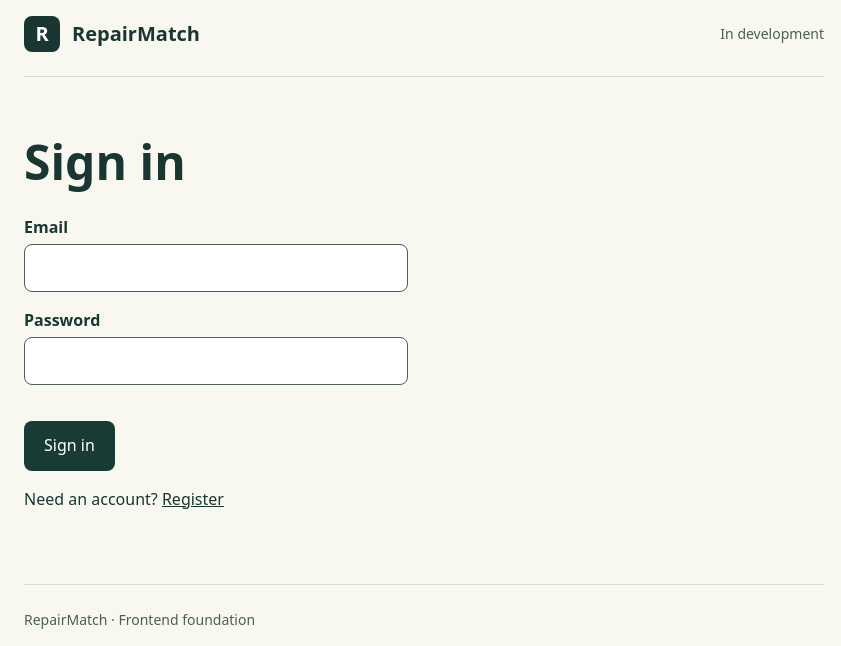
Test case: login form › disables the form while submitting
Type "client@example.test" into the field labelled "Email".
click(216, 268); type("client@example.test")  # box x1=24 y1=244 x2=408 y2=292
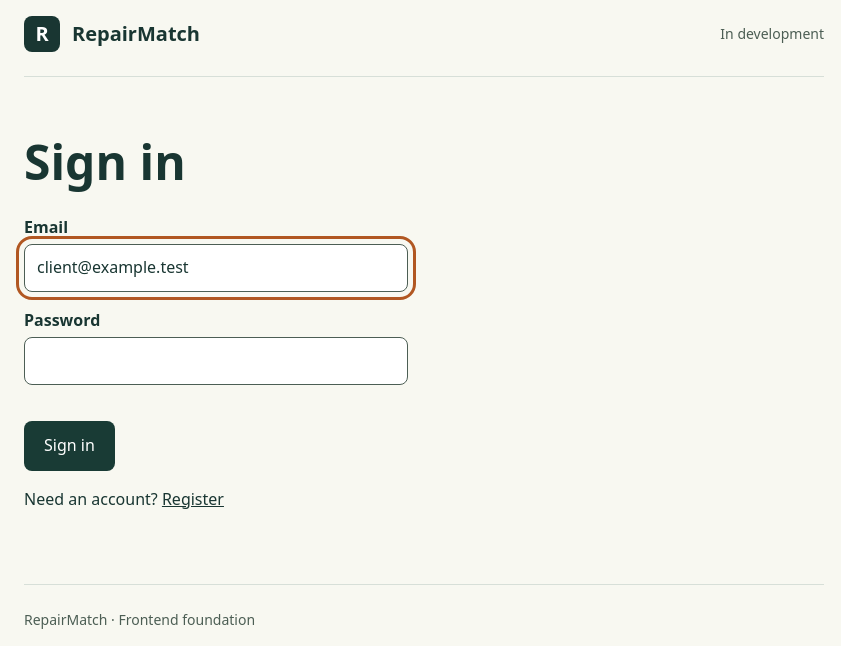
Type "Test-pass-1" into the password field labelled "Password".
click(216, 361); type("Test-pass-1")  # box x1=24 y1=337 x2=408 y2=385
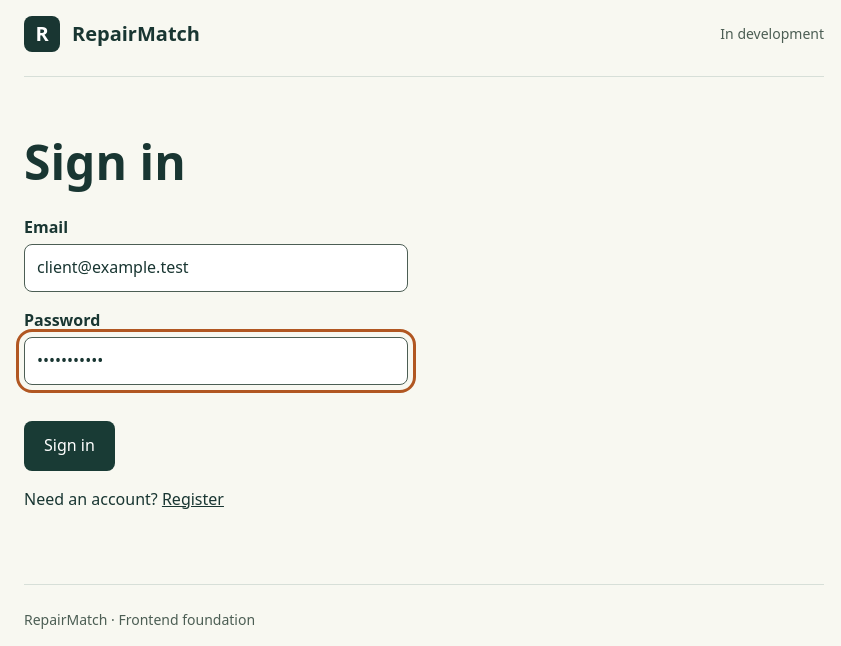
Click the button "Sign in".
click(69, 446)  # box x1=24 y1=421 x2=115 y2=471
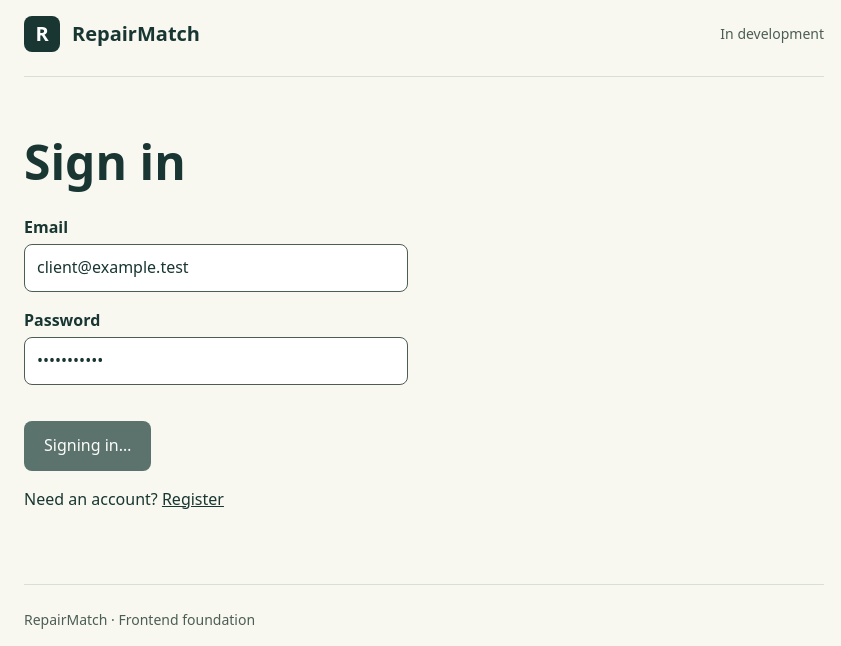
Expected: the field labelled "Email" is disabled, x1=24 y1=244 x2=408 y2=292
Expected: the password field labelled "Password" is disabled, x1=24 y1=337 x2=408 y2=385
Click the button "Signing in…".
click(88, 446)  # box x1=24 y1=421 x2=151 y2=471
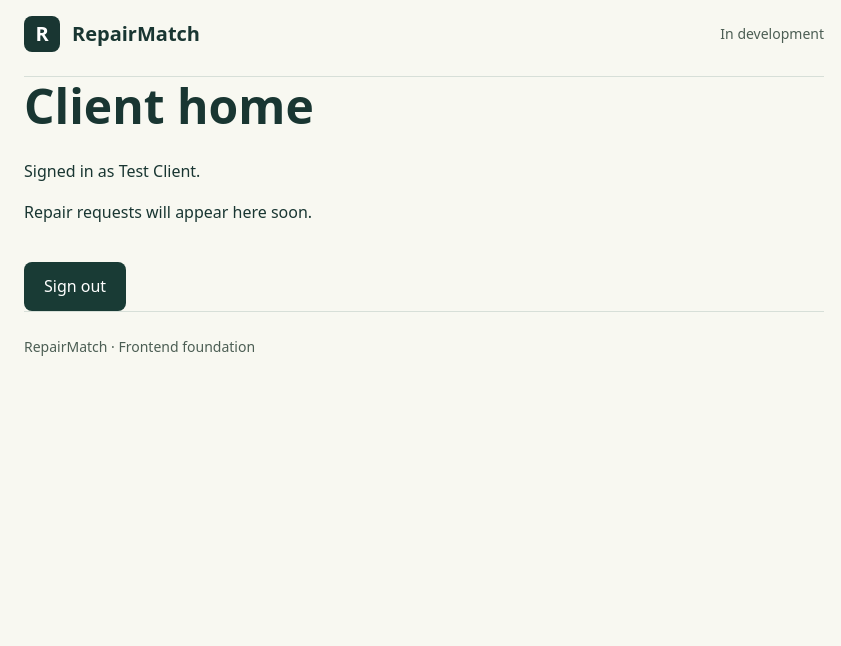
Result: the heading "Client home" is shown at x1=24 y1=73 x2=314 y2=138
